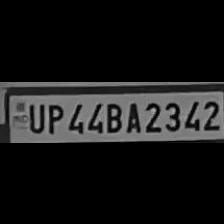2: (141, 98, 161, 132), (200, 96, 220, 130)
3: (162, 97, 180, 130)
4: (64, 99, 84, 133), (84, 97, 103, 132), (182, 96, 200, 130)
A: (122, 98, 142, 132)
B: (104, 97, 122, 132)
P: (44, 99, 62, 134)
U: (24, 100, 43, 132)
